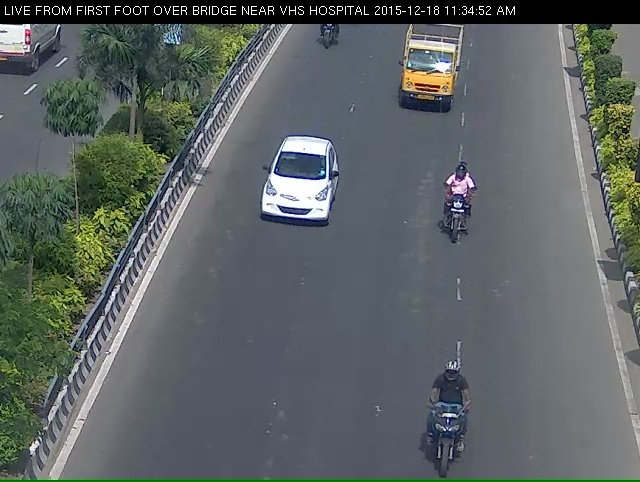Auto: (390, 25, 463, 132)
Car: (249, 153, 337, 264)
Person: (428, 174, 484, 284), (417, 400, 481, 481), (313, 19, 346, 80)
